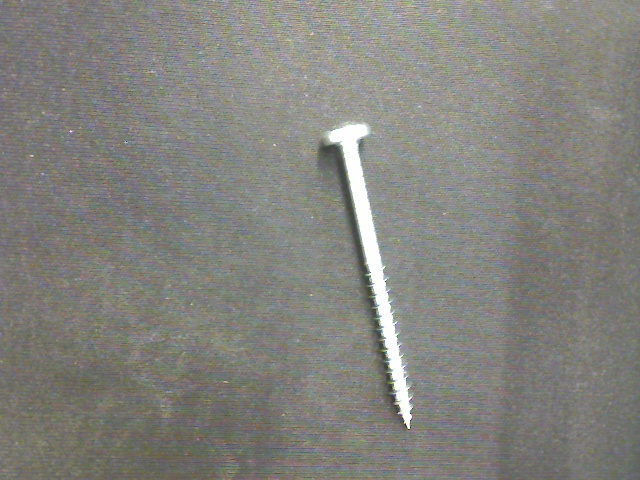Screw: (320, 121, 412, 429)
